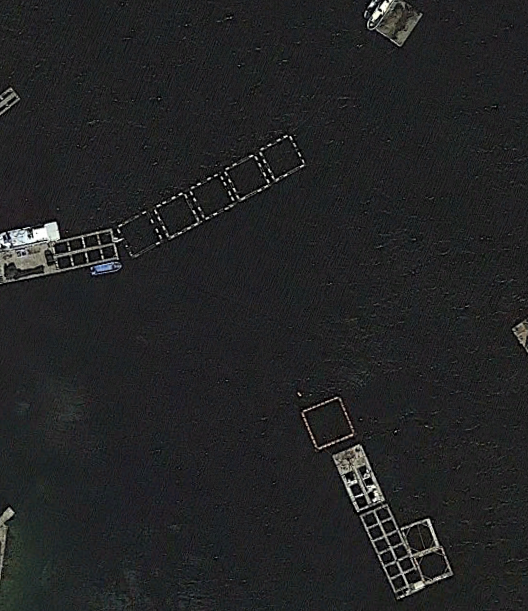platform: (376, 2, 423, 47)
ship: (82, 258, 128, 279)
square: (292, 386, 358, 455), (254, 127, 310, 182), (153, 183, 203, 243), (188, 163, 237, 223), (217, 151, 271, 205), (393, 508, 443, 562), (120, 206, 161, 256), (412, 544, 455, 589)
